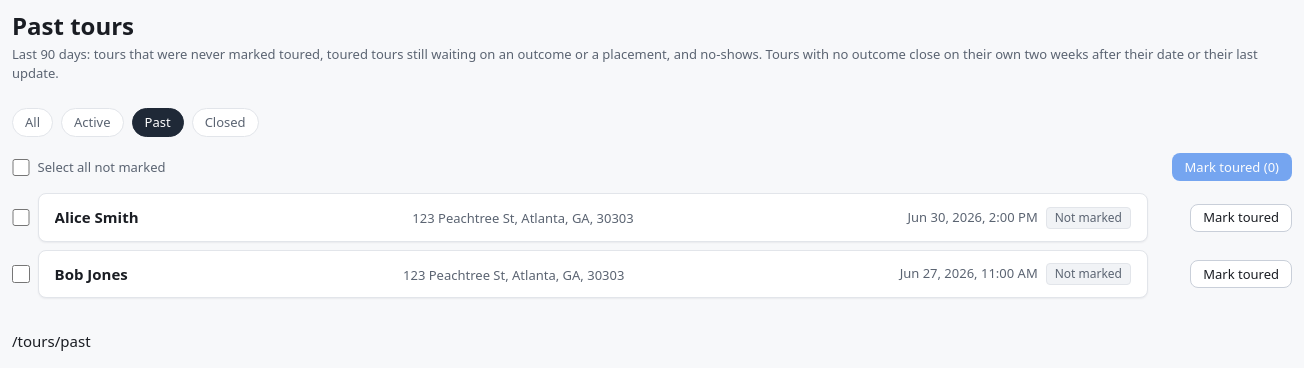
it: ToursPage - Past view › select-all reads INDETERMINATE while some but not all Not marked rows are ticked
The width and height of the screenshot is (1304, 368).
Expected: the checkbox labelled "Select all not marked" is not checked, [12, 158, 30, 176]
Click the checkbox named "Select tour for Alice Smith at 123 Peachtree St, Atlanta, GA" at {"x": 21, "y": 218}, box [12, 209, 30, 226]
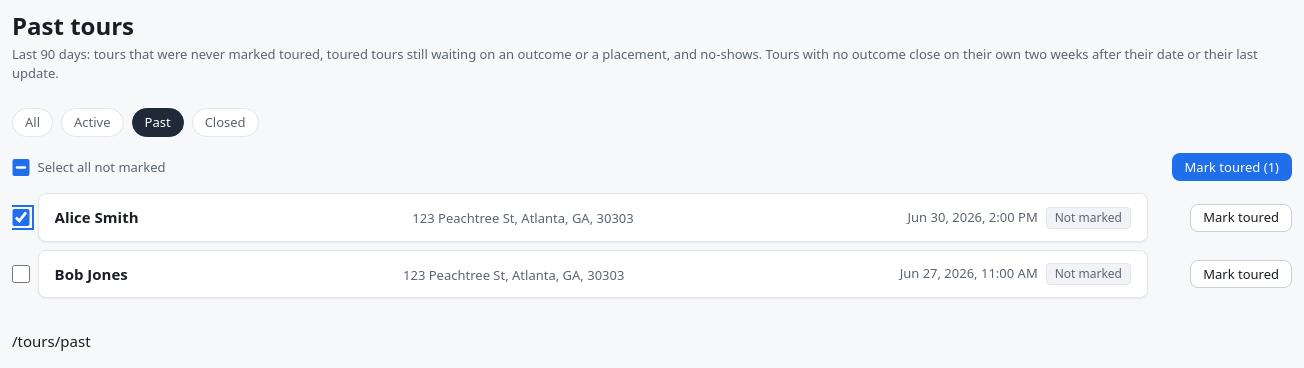
Expected: the checkbox labelled "Select all not marked" is not checked, [12, 158, 30, 176]
Expected: the button "Mark toured (1)" is enabled, [1172, 153, 1292, 181]
Click the checkbox named "Select tour for Bob Jones at 123 Peachtree St, Atlanta, GA," at {"x": 21, "y": 274}, box [12, 265, 30, 283]
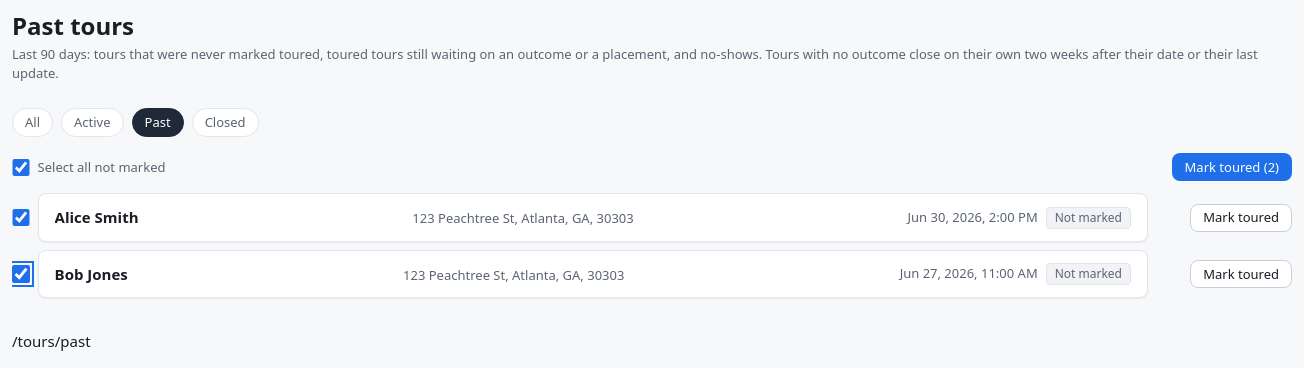
Expected: the button "Mark toured (2)" is enabled, [1172, 153, 1292, 181]
Expected: the checkbox labelled "Select all not marked" is checked, [12, 158, 30, 176]
